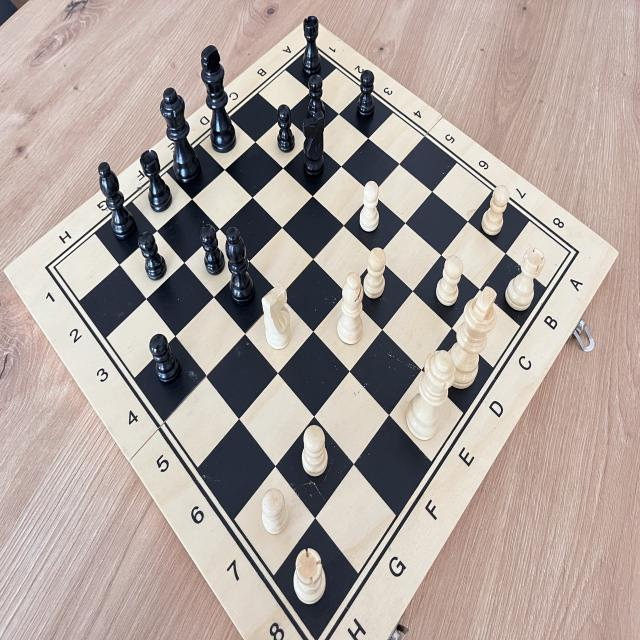black-bishop: (94, 158, 141, 246), (222, 225, 257, 310)
black-king: (197, 41, 240, 157)
black-knight: (298, 108, 330, 183)
black-pawn: (146, 331, 184, 388), (136, 230, 170, 284), (197, 220, 227, 278), (273, 101, 298, 157), (303, 70, 328, 124), (354, 69, 378, 121)
black-queen: (158, 80, 204, 188)
black-rook: (138, 146, 174, 217), (299, 13, 326, 80)
white-bishop: (333, 267, 368, 348)
white-king: (437, 285, 500, 393)
white-knight: (259, 282, 294, 352)
white-pawn: (474, 182, 514, 240), (258, 482, 292, 541), (298, 419, 330, 481), (432, 252, 465, 310), (356, 179, 383, 235), (363, 243, 388, 303)
white-queen: (401, 344, 458, 447)
white-rook: (502, 243, 547, 315), (286, 545, 332, 609)
